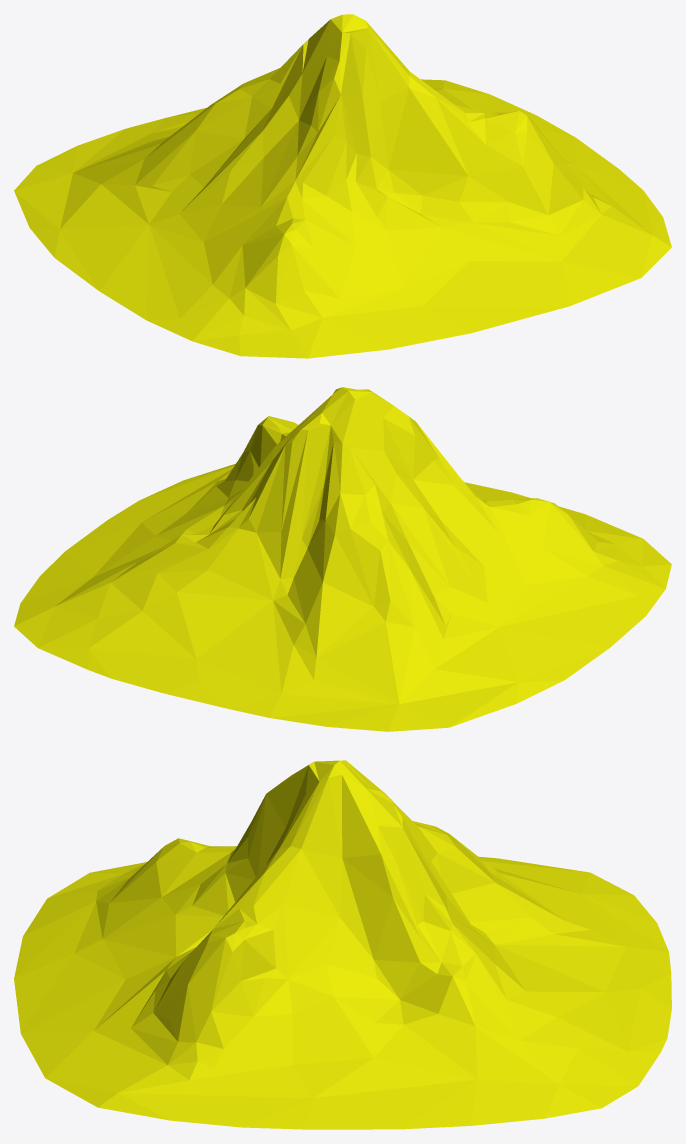
File: SM_Generic_Mountains_Grass_02.glb
3 views of the same model, one above another, from view 1: azimuth 30°, elevation 25°; view 2: azimuth 150°, elevation 25°; view 3: azimuth 270°, elevation 25° (orthographic). The views are drawn at different scales.
Parts seen in each view (by area): view 1: SM_Generic_Mountains_Grass_02; view 2: SM_Generic_Mountains_Grass_02; view 3: SM_Generic_Mountains_Grass_02.
Boxes of the visible parts, left/top/right/bottom form: SM_Generic_Mountains_Grass_02: left=14, top=14, right=671, bottom=358; SM_Generic_Mountains_Grass_02: left=14, top=387, right=671, bottom=731; SM_Generic_Mountains_Grass_02: left=14, top=760, right=671, bottom=1129.
Bounding box in the file's own units: 14.49 × 5.54 × 14.48.
1 material, 1 textured.
